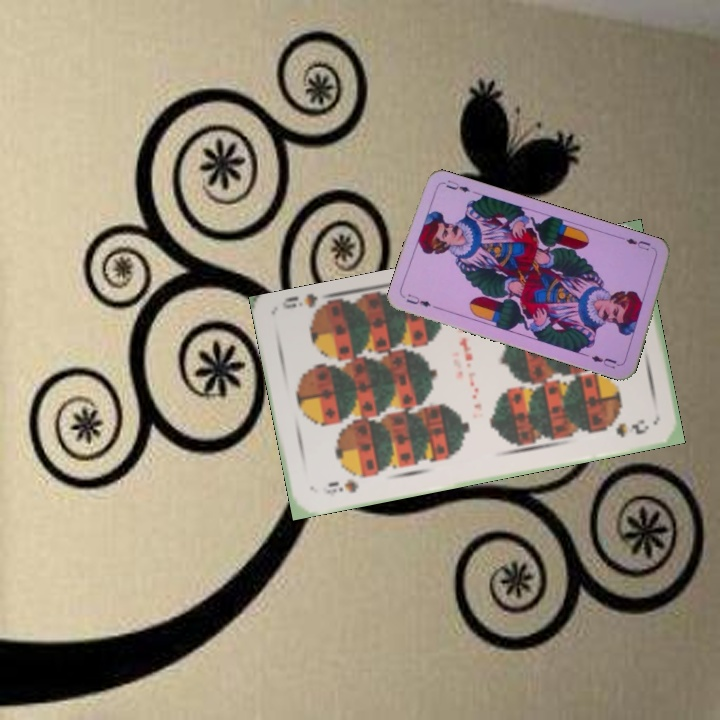EU: (622, 234, 657, 253), (402, 290, 433, 310)
S9: (322, 475, 361, 499)
